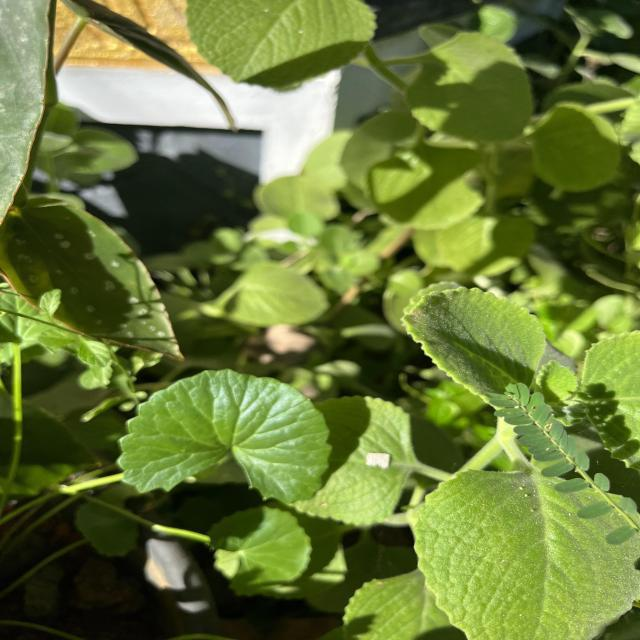Centella asiatica: (112, 364, 336, 509)
